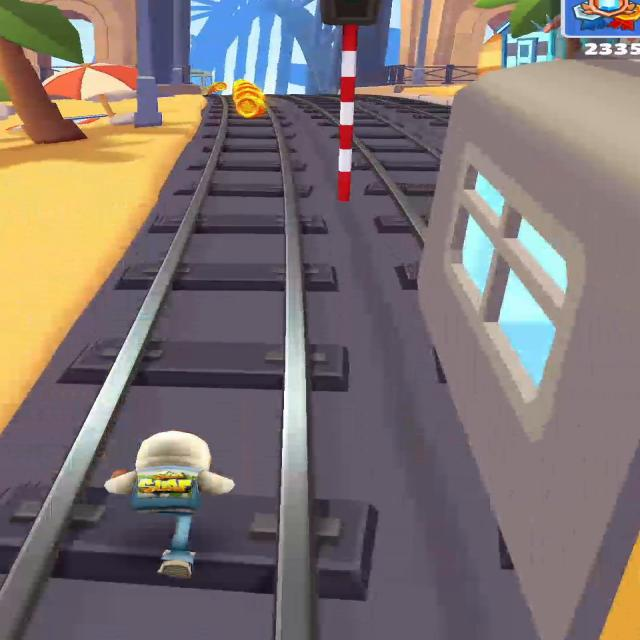train: (418, 59, 639, 640), (192, 68, 212, 86)
